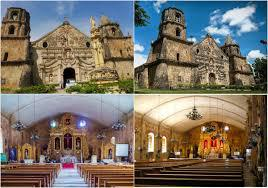Miagao Church: (1, 7, 131, 89), (144, 6, 258, 90)
